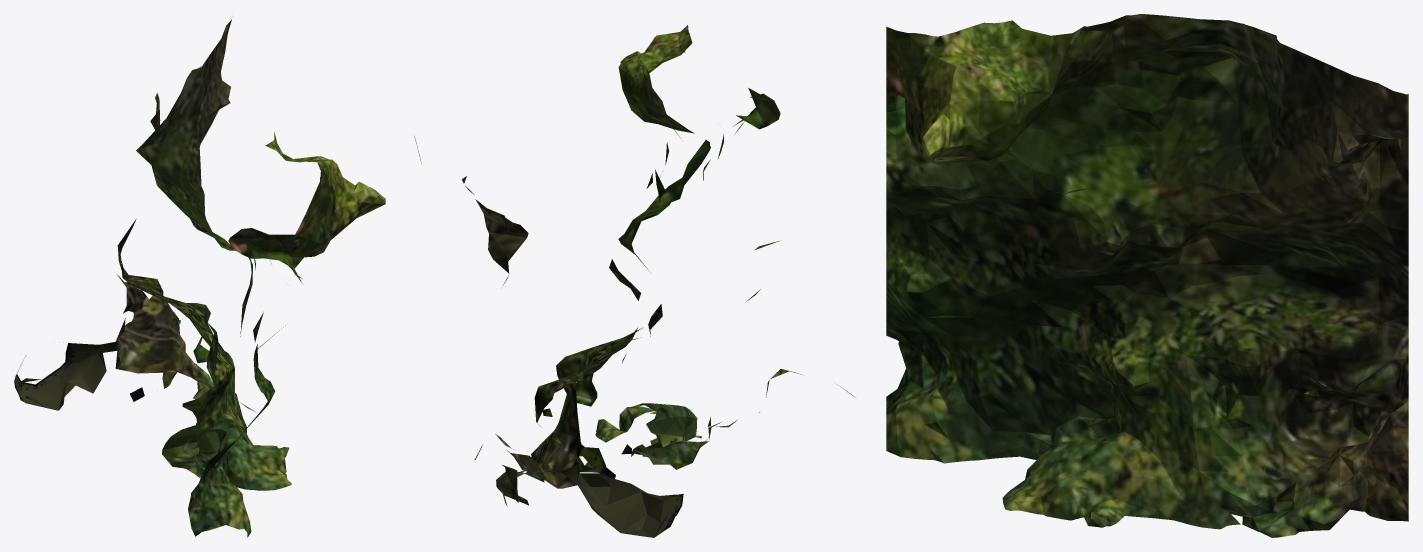
3 renders of one model, left to right at view 1: azimuth 30°, elevation 25°; view 2: azimuth 150°, elevation 25°; view 3: azimuth 270°, elevation 25°, orthographic. The views are drawn at different scales.
Bounding box in the file's own units: 1.15 × 1.67 × 1.67.
Materials: 4 (4 with a texture image).
